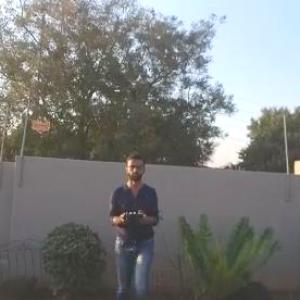follow: (104, 150, 172, 299)
